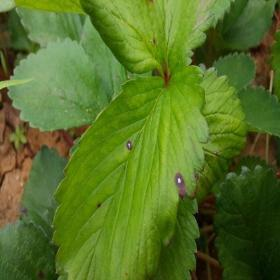Leaf Spot: (49, 65, 210, 279), (78, 0, 231, 84), (196, 64, 248, 208), (18, 145, 68, 239), (0, 219, 59, 279)
